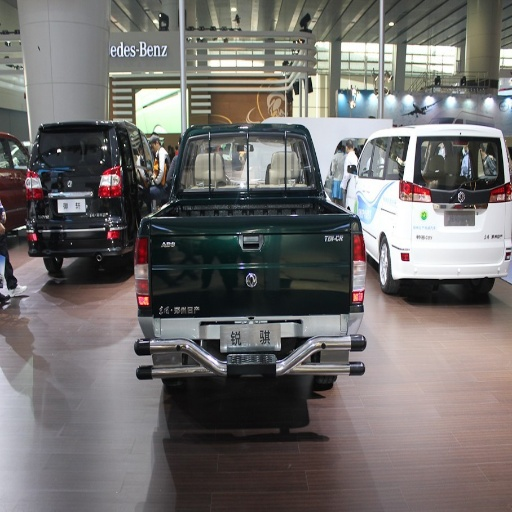back_bumper: (444, 250, 502, 277)
